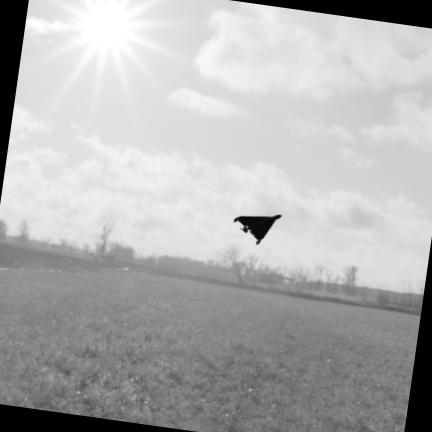Shahed: (233, 214, 282, 244)
